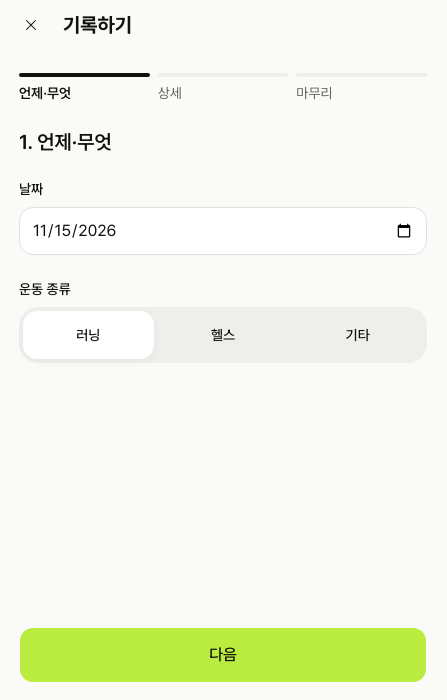
Test: WorkoutForm › 단계마다 입력을 확인하고, 마지막에 WorkoutInput으로 저장한다
Later steps or results of the test are not shown.
Click the button "기타" at (358, 335), box 292,311 -> 423,359
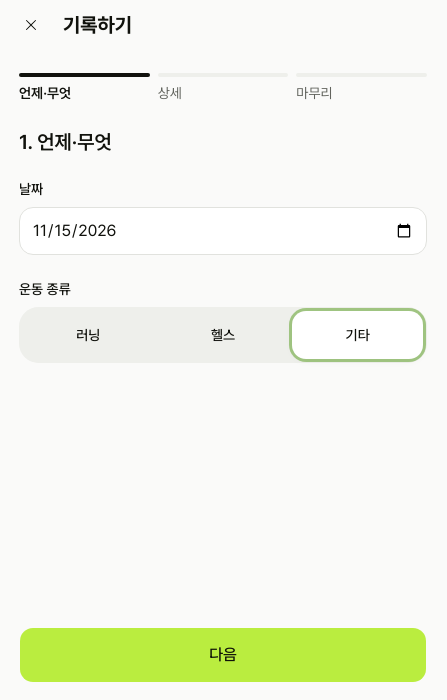
Click the button "다음" at (223, 655), box 19,627 -> 427,683
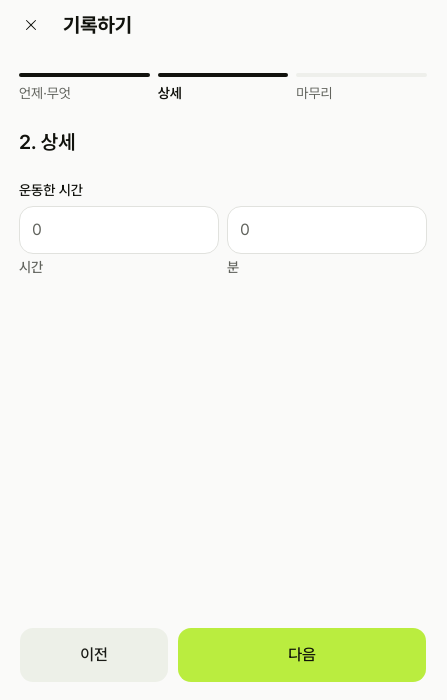
기타는 시간을 적어야 넘어간다
Click the button "다음" at (302, 655), box 177,627 -> 427,683
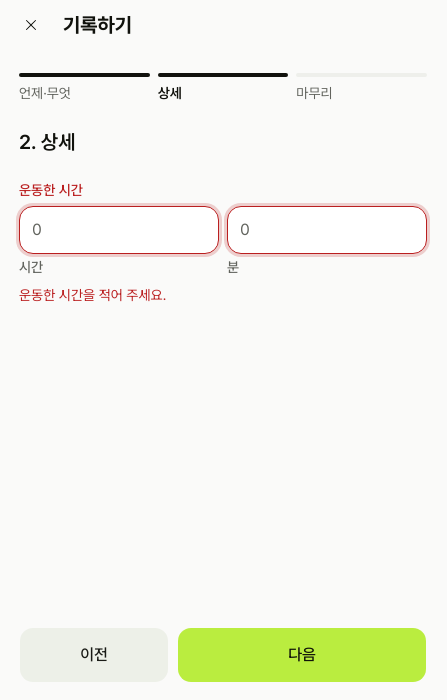
Check: the message reads "운동한 시간을 적어 주세요.", box 19,287 -> 166,303
Type "2" into the field labelled "시간" at (119, 230), box 19,206 -> 219,254
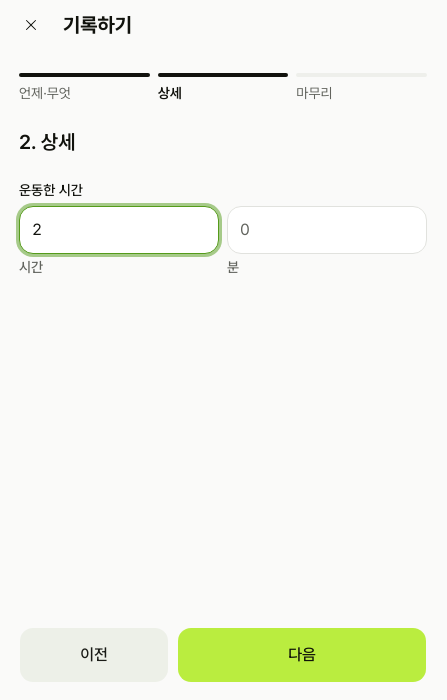
Check: the message "운동한 시간을 적어 주세요." is gone
